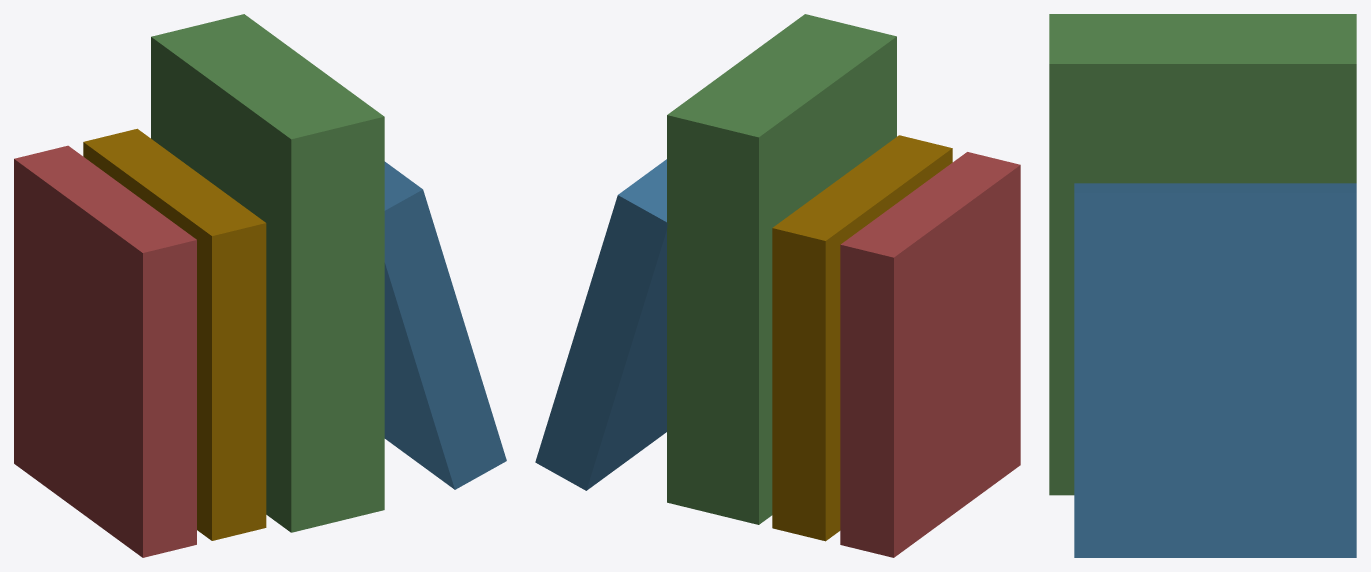
File: BookStackVar1Geo.fbx
The picture shows the model from 3 angles, left to right: view 1: azimuth 30°, elevation 25°; view 2: azimuth 150°, elevation 25°; view 3: azimuth 270°, elevation 25°; orthographic projection. The views are drawn at different scales.
Parts seen in each view (by area): view 1: BookStackVar1Geo; view 2: BookStackVar1Geo; view 3: BookStackVar1Geo.
Part boxes in pixels (bbox=[...]): BookStackVar1Geo: bbox=[14, 14, 506, 557]; BookStackVar1Geo: bbox=[535, 14, 1020, 557]; BookStackVar1Geo: bbox=[1049, 14, 1356, 557].
Size of the model in its own units: 67.93 by 71.6 by 45.3.
